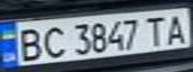3: (69, 20, 93, 56)
4: (106, 18, 127, 52)
7: (121, 16, 145, 50)
8: (90, 19, 109, 53)
A: (160, 11, 190, 45)
B: (12, 25, 45, 62)
C: (36, 24, 69, 60)
T: (139, 14, 172, 47)
